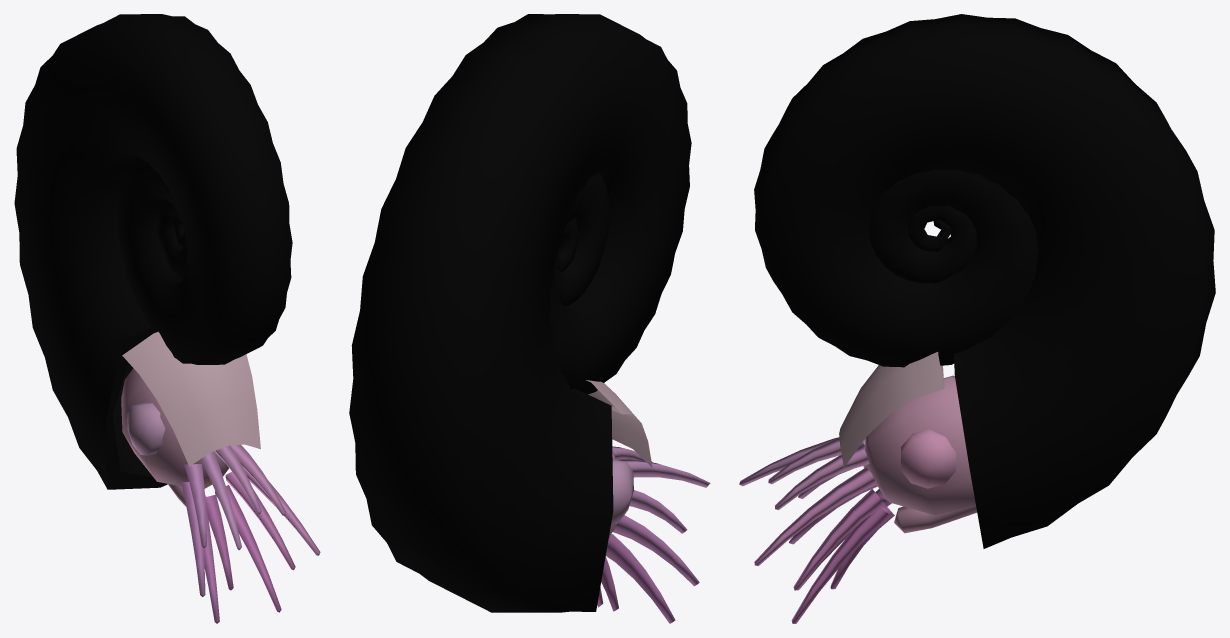
Rendered from ammonite_game.glb.
The picture shows the model from 3 angles, left to right: view 1: azimuth 30°, elevation 25°; view 2: azimuth 150°, elevation 25°; view 3: azimuth 270°, elevation 25°; orthographic projection. The views are drawn at different scales.
Visible parts, largest first — view 1: ammonite_game; view 2: ammonite_game; view 3: ammonite_game.
Part boxes in pixels (left/top/right/bottom): ammonite_game: left=14, top=14, right=320, bottom=623; ammonite_game: left=349, top=14, right=710, bottom=623; ammonite_game: left=739, top=14, right=1215, bottom=623.
Size of the model in its own units: 0.1094 by 0.4558 by 0.3377.
